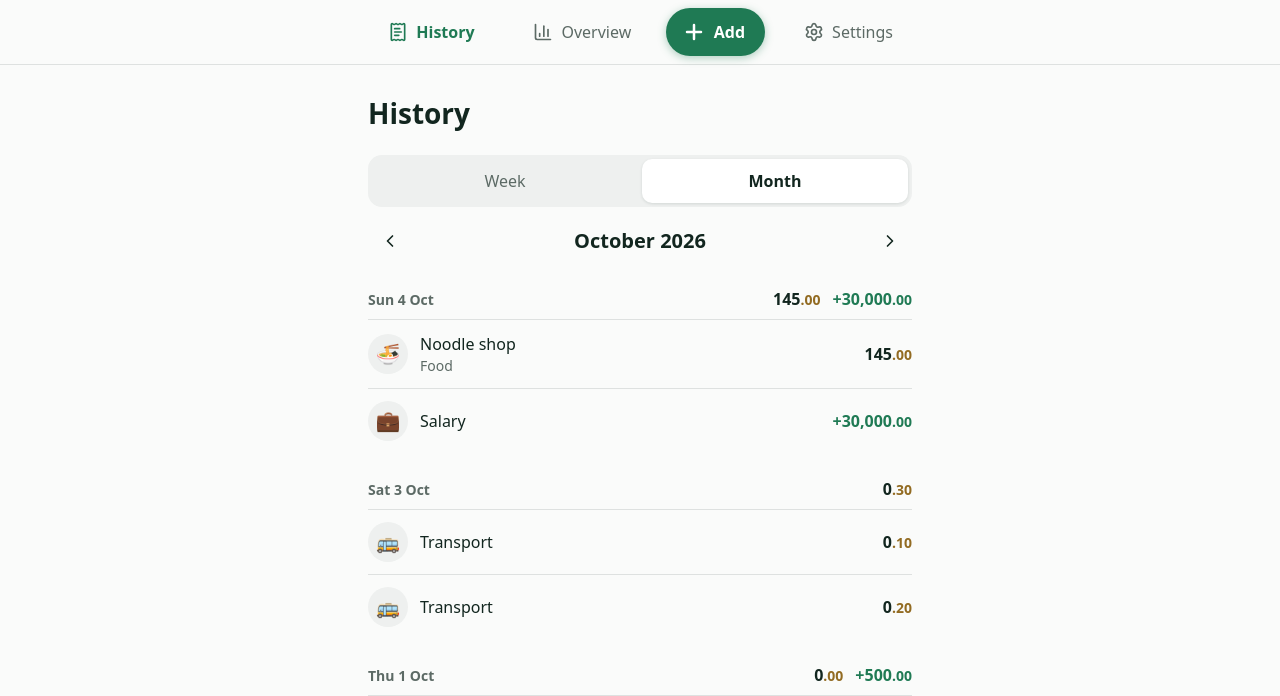
Test: History › moves between months
Click the button named "Previous month": {"x": 390, "y": 241} [368, 219, 412, 263]
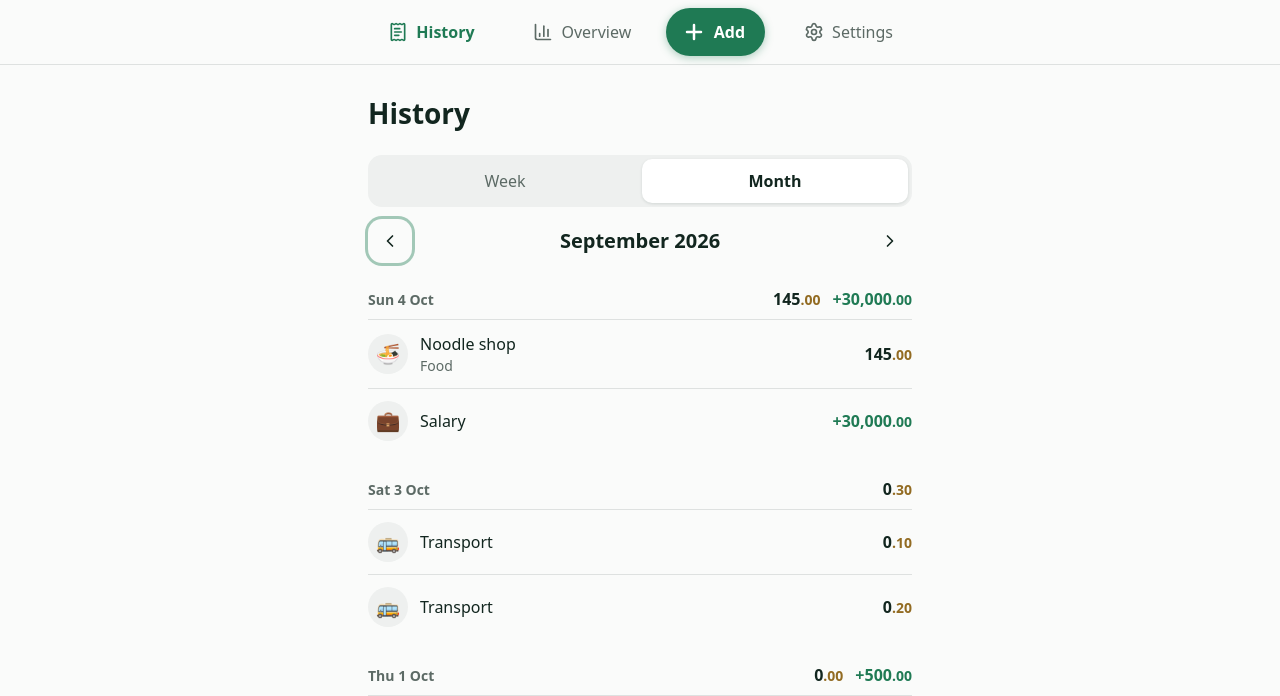
Now the heading "September 2026" is shown, box [560, 227, 720, 255]
Click the button named "Next month": {"x": 890, "y": 241} [868, 219, 912, 263]
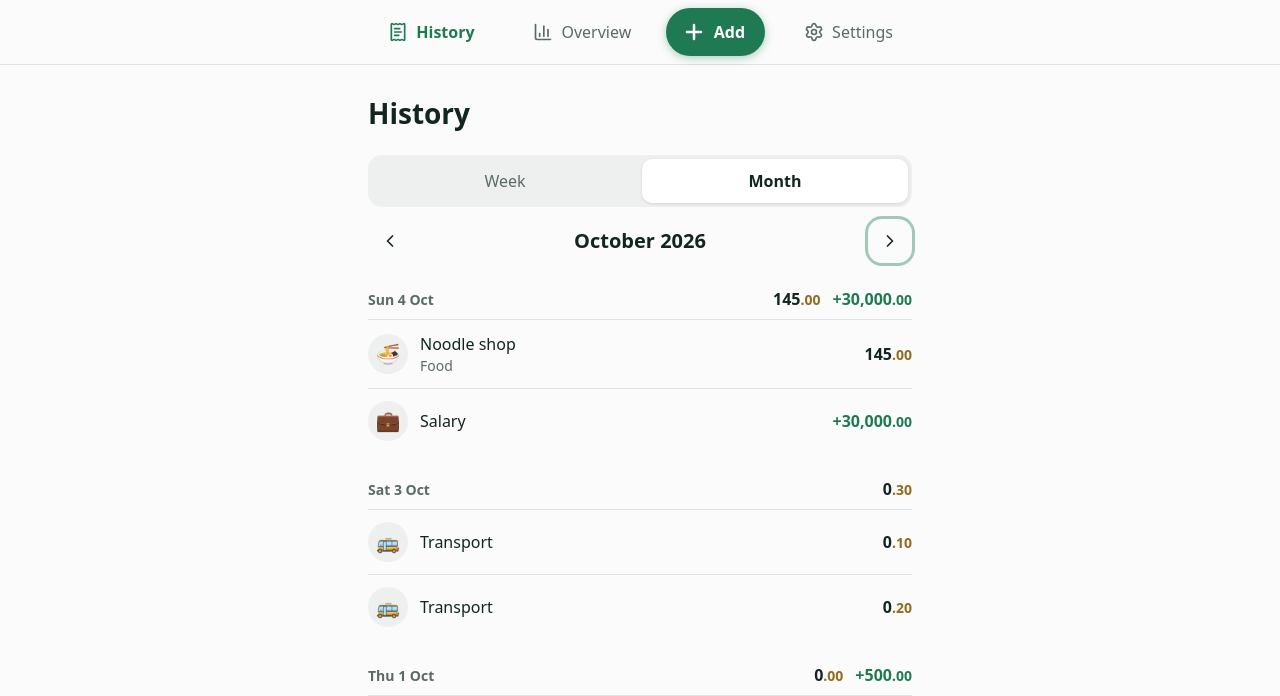
Click the button named "Next month": {"x": 890, "y": 241} [868, 219, 912, 263]
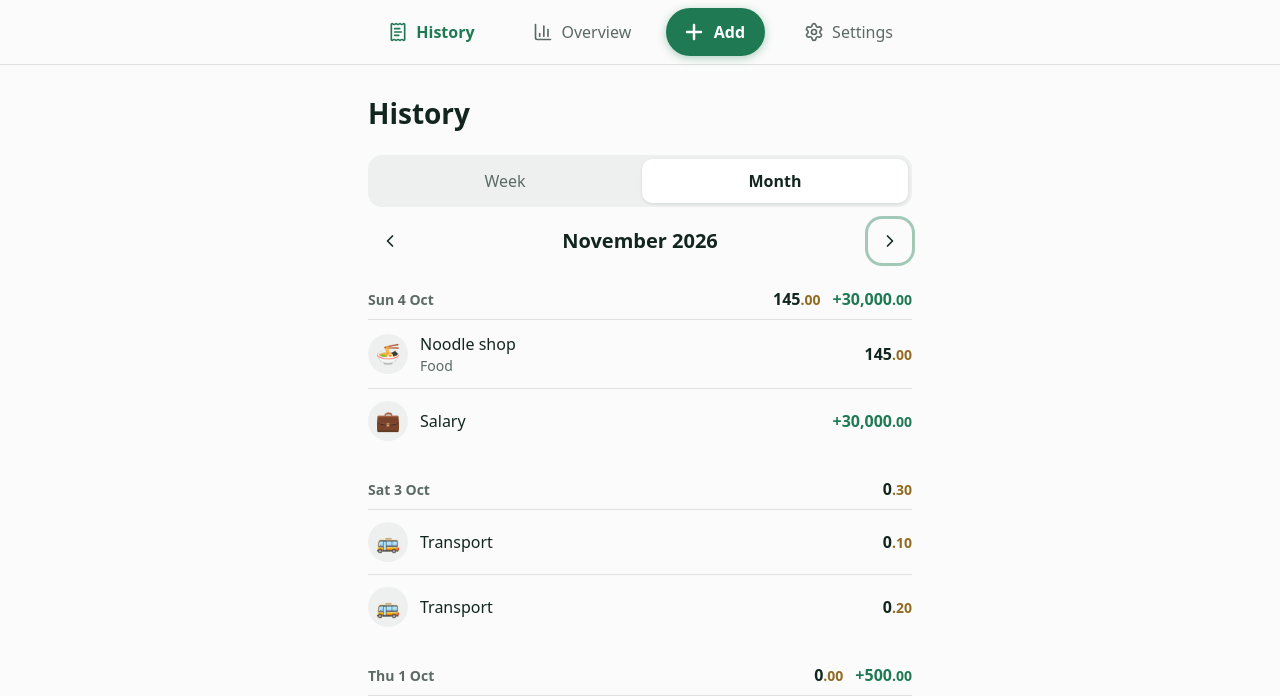
Now the heading "November 2026" is shown, box [562, 227, 718, 255]
